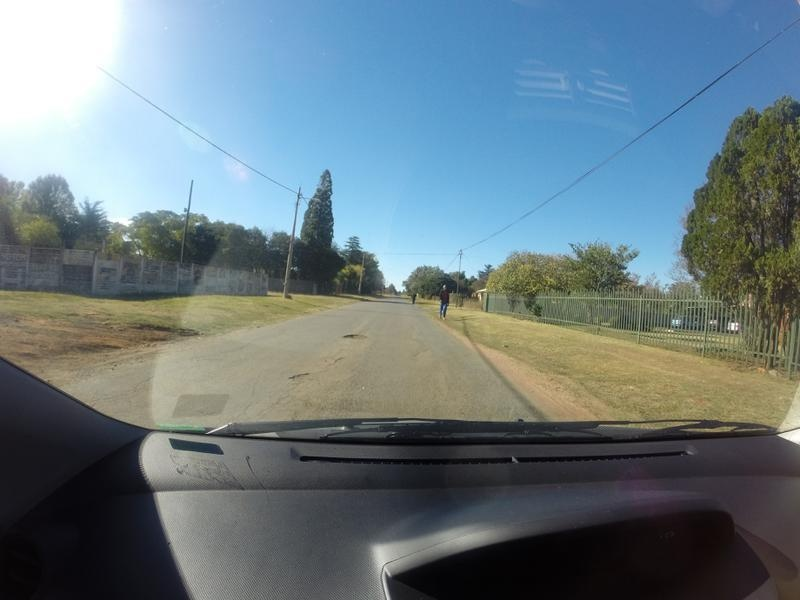pothole: (62, 340, 120, 362), (123, 322, 187, 339), (278, 362, 310, 387), (338, 330, 367, 344)
